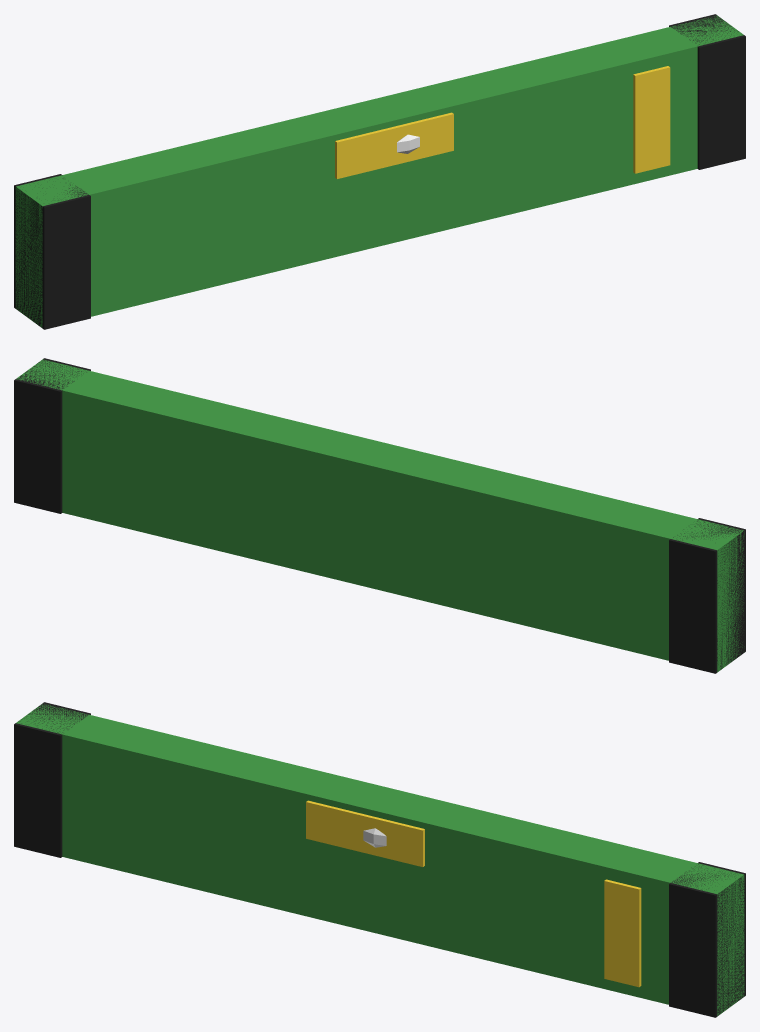
The model's file is vattenpass.glb.
3 renders of one model, top to bottom at view 1: azimuth 30°, elevation 25°; view 2: azimuth 150°, elevation 25°; view 3: azimuth 330°, elevation 25°, orthographic.
Visible parts, largest first — view 1: vattenpass; view 2: vattenpass; view 3: vattenpass.
Boxes of the visible parts, box(x1,y1,x2,y2) form: vattenpass: box(14, 14, 745, 329); vattenpass: box(14, 358, 745, 673); vattenpass: box(14, 702, 745, 1017).
Bounding box in the file's own units: 0.6 × 0.1 × 0.0491.
